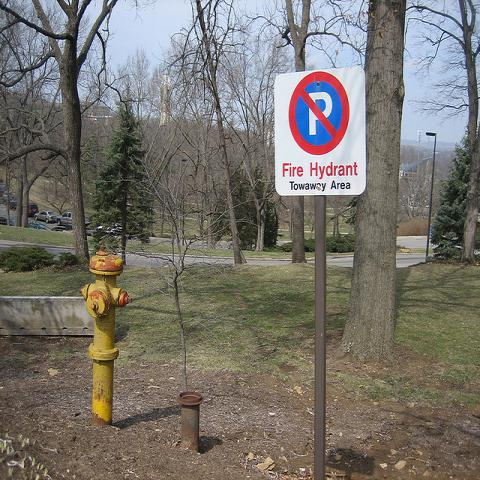car: (34, 210, 58, 223), (57, 212, 72, 227), (3, 190, 13, 204), (29, 204, 38, 216), (63, 225, 72, 232)
